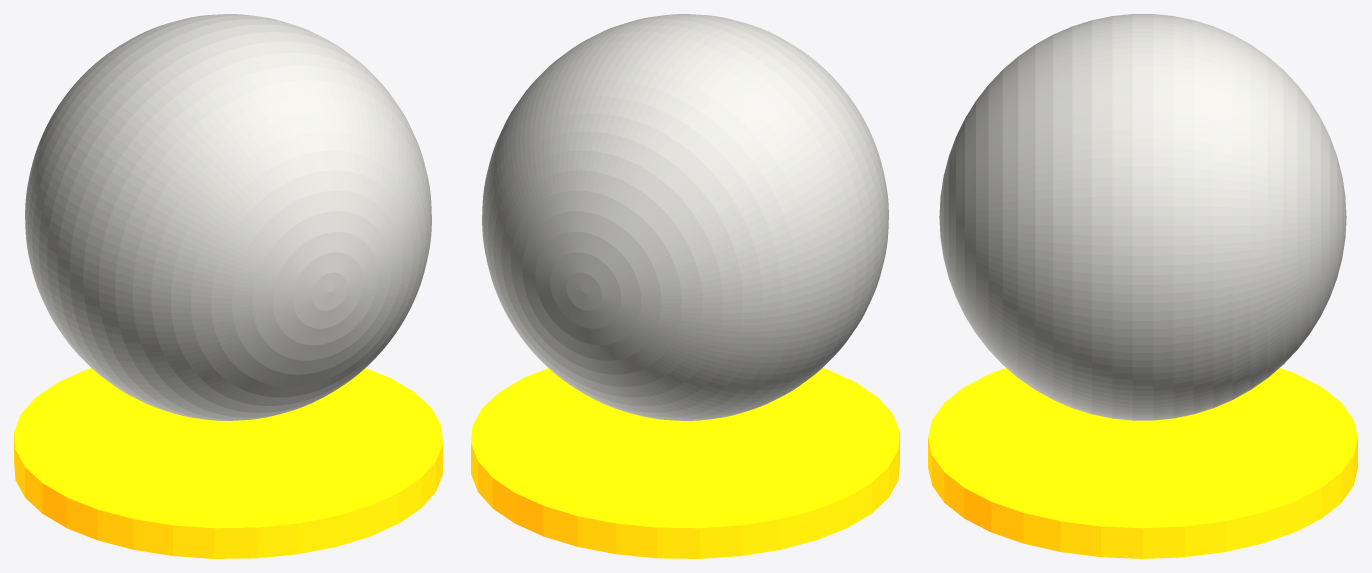
Rendered from spanish_soccer_ball.glb.
The picture shows the model from 3 angles, left to right: view 1: azimuth 30°, elevation 25°; view 2: azimuth 150°, elevation 25°; view 3: azimuth 270°, elevation 25°; orthographic projection.
Parts seen in each view (by area): view 1: 11_05_Popular_Spanish_Soccer_Ball_part_01, 11_05_Popular_Spanish_Soccer_Ball_ROOT_base; view 2: 11_05_Popular_Spanish_Soccer_Ball_part_01, 11_05_Popular_Spanish_Soccer_Ball_ROOT_base; view 3: 11_05_Popular_Spanish_Soccer_Ball_part_01, 11_05_Popular_Spanish_Soccer_Ball_ROOT_base.
Boxes of the visible parts, <box> form: 11_05_Popular_Spanish_Soccer_Ball_part_01: <box>25,14,431,420</box>; 11_05_Popular_Spanish_Soccer_Ball_ROOT_base: <box>14,368,442,558</box>; 11_05_Popular_Spanish_Soccer_Ball_part_01: <box>482,14,888,420</box>; 11_05_Popular_Spanish_Soccer_Ball_ROOT_base: <box>471,368,899,558</box>; 11_05_Popular_Spanish_Soccer_Ball_part_01: <box>939,14,1346,420</box>; 11_05_Popular_Spanish_Soccer_Ball_ROOT_base: <box>928,368,1357,558</box>.
Size of the model in its own units: 0.76 by 0.8491 by 0.76.
